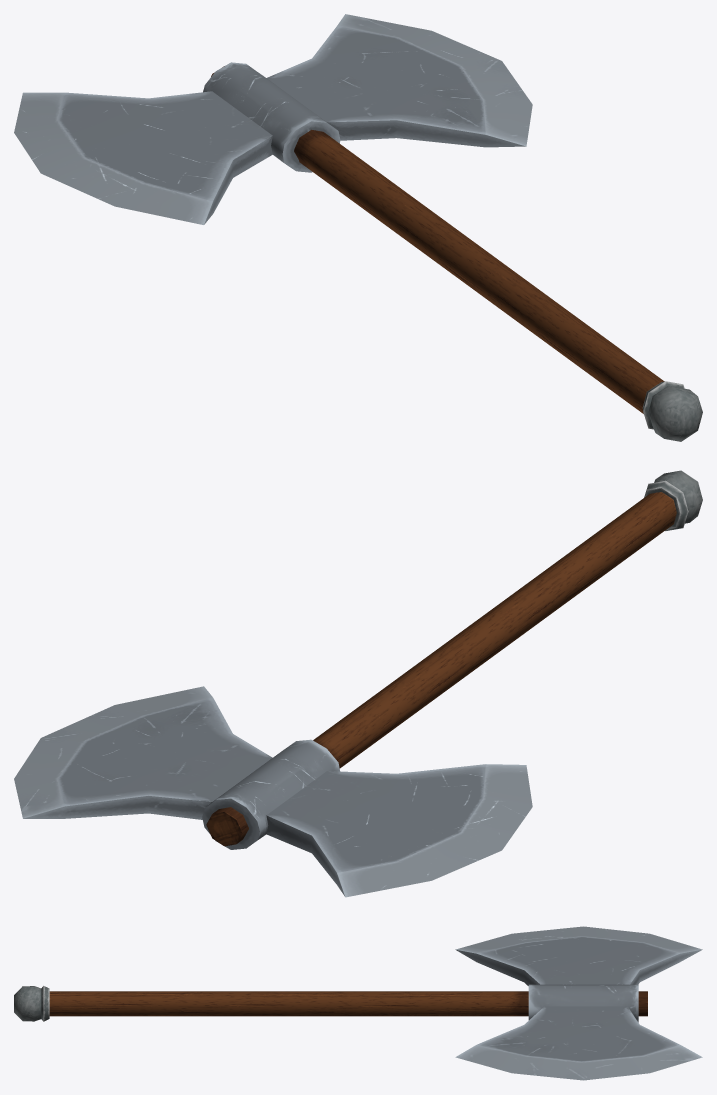
File: axe_two_handed.glb
3 renders of one model, top to bottom at view 1: azimuth 30°, elevation 25°; view 2: azimuth 150°, elevation 25°; view 3: azimuth 270°, elevation 25°, orthographic. The views are drawn at different scales.
Visible parts, largest first — view 1: axe_two_handed_Material.003_0; view 2: axe_two_handed_Material.003_0; view 3: axe_two_handed_Material.003_0.
Boxes of the visible parts, bbox=[...] form: axe_two_handed_Material.003_0: bbox=[14, 14, 702, 441]; axe_two_handed_Material.003_0: bbox=[14, 470, 702, 897]; axe_two_handed_Material.003_0: bbox=[14, 926, 702, 1080].
Size of the model in its own units: 3.6 by 0.3839 by 6.8.
1 material, 1 textured.
